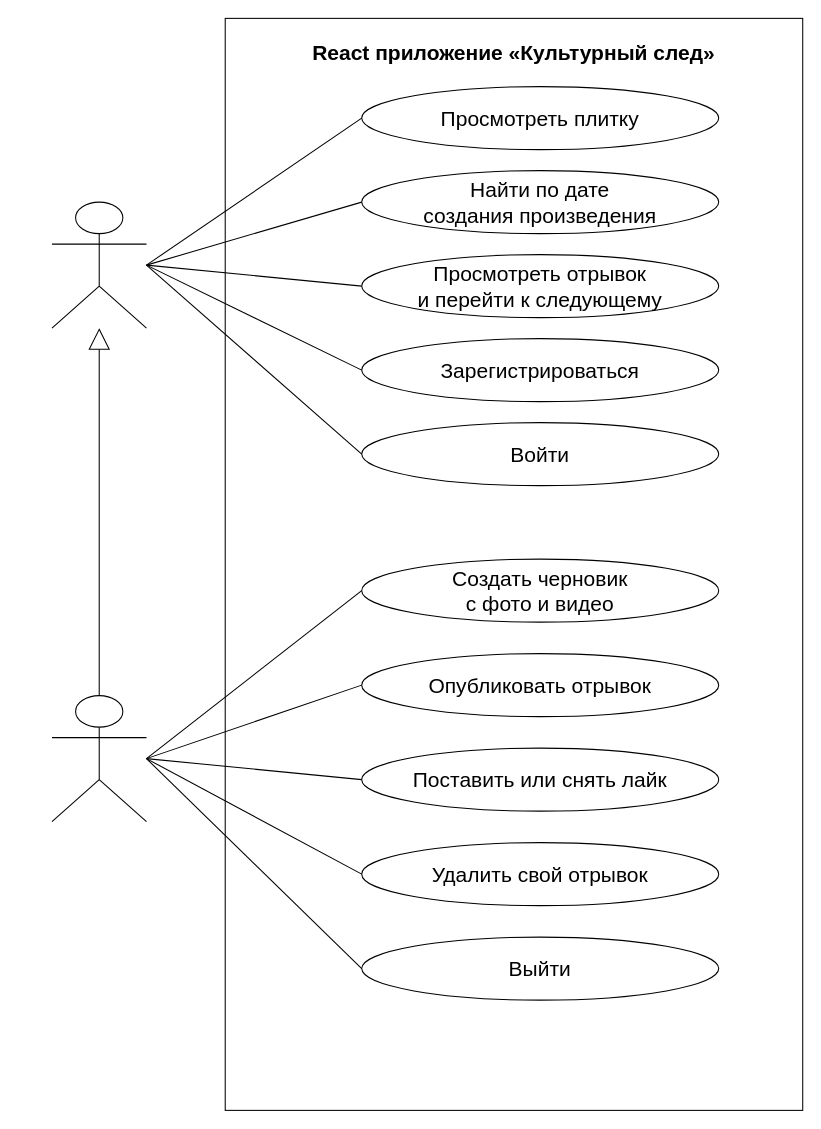
This 821x1129 diagram has some shape labels left out. The shapes that lost their labels are listed below. From the top down, each one's centre as x and y in pixels, then its label:
At (x=98, y=264): "Гость".
At (x=98, y=758): "Авторизованный пользователь".
